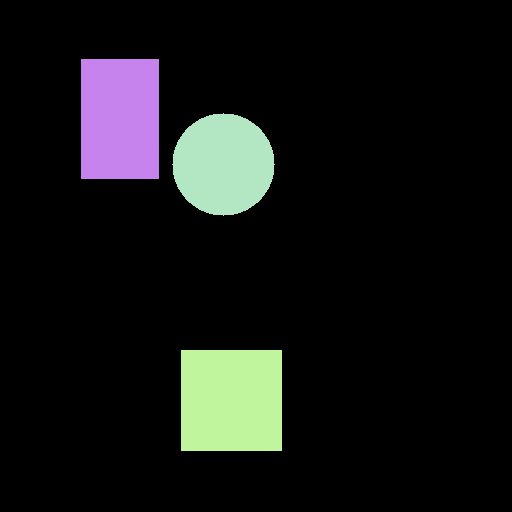circle: (172, 113, 274, 215)
rectangle: (81, 59, 158, 178)
square: (181, 350, 281, 450)
